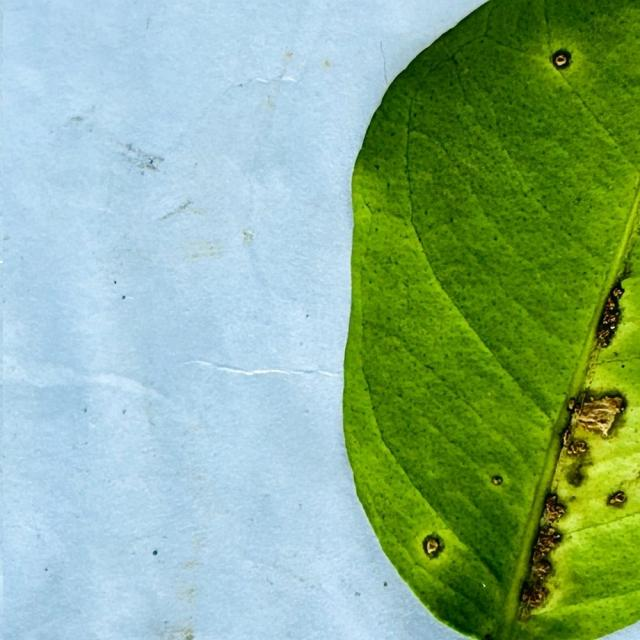Anthracnose: (548, 375, 628, 452), (576, 261, 635, 358), (499, 549, 564, 635), (538, 488, 573, 617), (398, 537, 461, 580), (473, 447, 519, 503), (595, 480, 638, 527), (550, 46, 575, 75)
Lemon: (341, 0, 639, 639)
